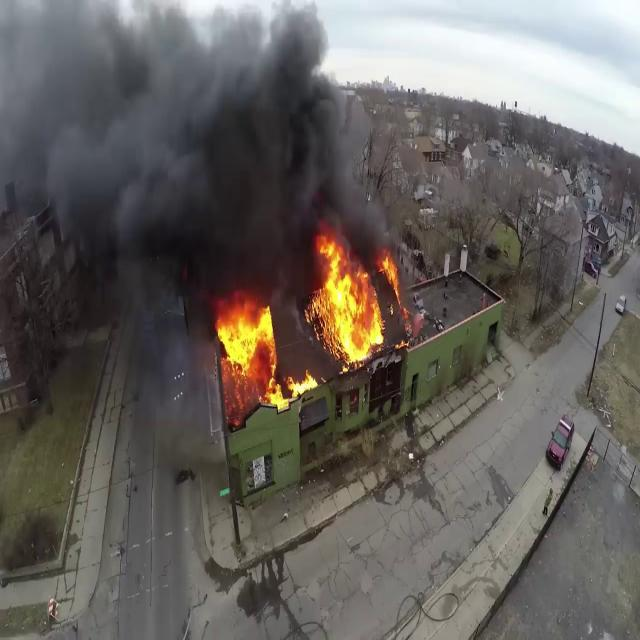Fire: (304, 234, 396, 368), (212, 294, 314, 412)
Smoke: (0, 0, 392, 295)
